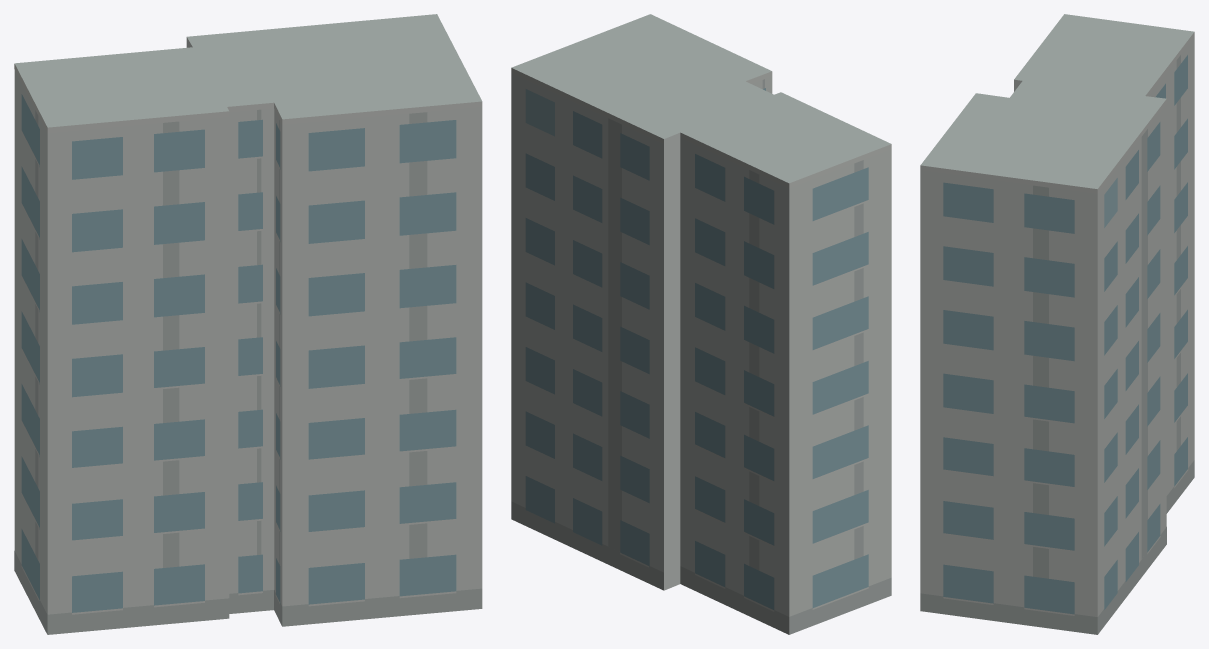
Rendered from survey-upis-32602694.glb.
The picture shows the model from 3 angles, left to right: view 1: azimuth 30°, elevation 25°; view 2: azimuth 150°, elevation 25°; view 3: azimuth 270°, elevation 25°; orthographic projection. The views are drawn at different scales.
Parts seen in each view (by area): view 1: survey-upis-32602694.tmp; view 2: survey-upis-32602694.tmp; view 3: survey-upis-32602694.tmp.
Boxes of the visible parts, x1,y1,x2,y2 form: survey-upis-32602694.tmp: [14, 14, 482, 634]; survey-upis-32602694.tmp: [511, 14, 891, 634]; survey-upis-32602694.tmp: [920, 14, 1194, 634].
Size of the model in its own units: 18.17 by 21.55 by 12.03.
